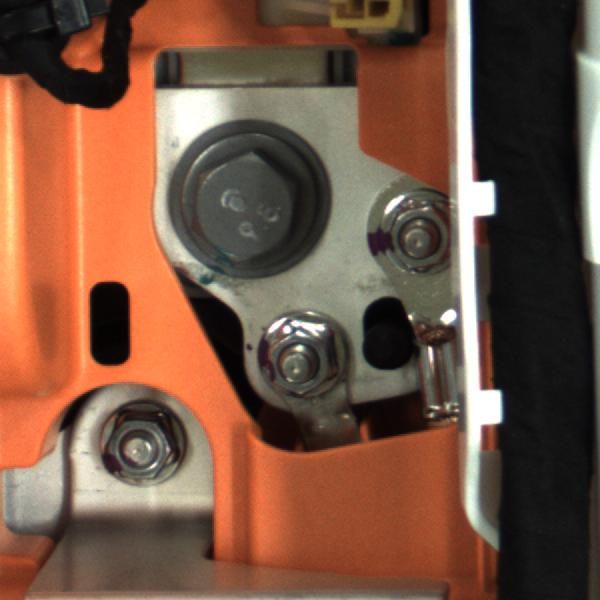nut_b: (161, 116, 328, 283)
screw_s: (244, 310, 353, 413), (87, 407, 192, 493), (371, 183, 455, 279)
